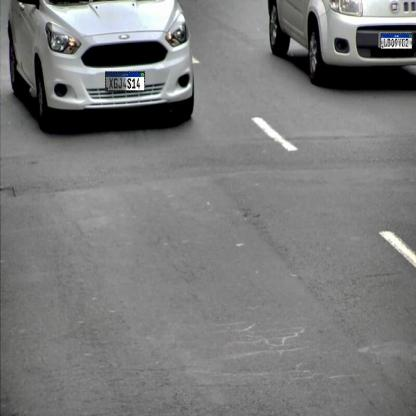PlacaM: (105, 72, 145, 92), (381, 34, 412, 50)
